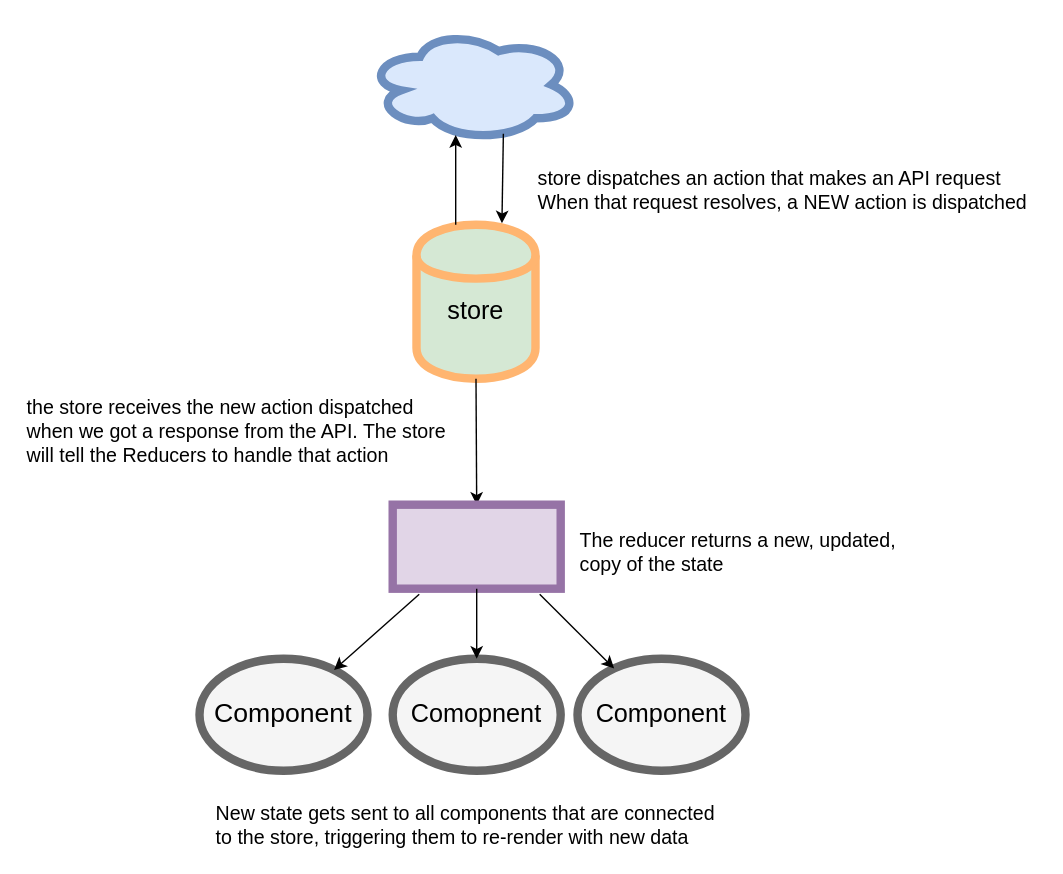
The diagram is 1063 pixels wide and 874 high, and some of its shapes have lost their labels. Each missing label, with the centre of its shape:
Rails API: (472,84)
Reducer: (476,546)
